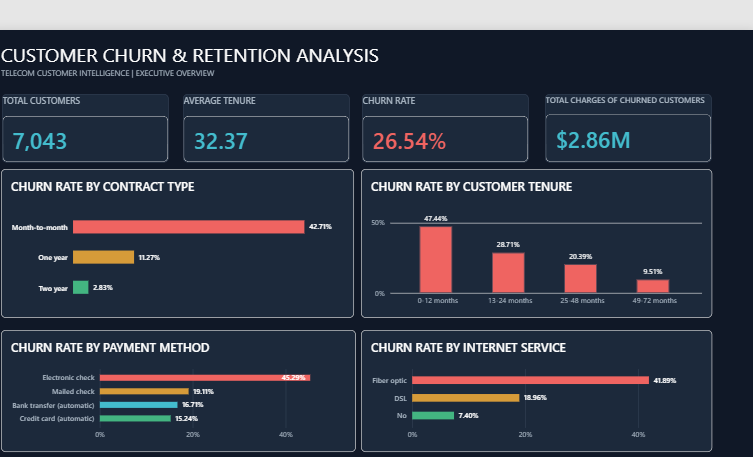

What the dashboard file says about the page in this screenshot:
{"tool":"powerbi","page":{"name":"Executive Overview","canvas":[1280,720],"ordinal":0},"visuals":[{"type":"textbox","title":"CUSTOMER CHURN & RETENTION ANALYSIS ","box":[13.4,18.5,1171,65],"z":0},{"type":"cardVisual","title":"TOTAL CUSTOMERS","fields":{"Data":["telco_churn_cleaned.Total customers"]},"box":[15.1,107.5,280,115],"z":1000},{"type":"cardVisual","title":"AVERAGE TENURE","fields":{"Data":["telco_churn_cleaned.Average Tenure"]},"box":[319.2,107.5,280,115],"z":2000},{"type":"cardVisual","title":"CHURN RATE","fields":{"Data":["telco_churn_cleaned.Churn rate"]},"box":[619.8,107.5,280,115],"z":3000},{"type":"cardVisual","title":"TOTAL CHARGES OF CHURNED CUSTOMERS","fields":{"Data":["telco_churn_cleaned.CHURNED CUSTOMER CHARGES"]},"box":[927.2,107.5,280,115],"z":4000},{"type":"clusteredBarChart","title":"CHURN RATE BY CONTRACT TYPE","fields":{"Category":["telco_churn_cleaned.Contract"],"Y":["telco_churn_cleaned.Churn rate"]},"box":[13.4,233.5,593,250.3],"z":5000},{"type":"clusteredColumnChart","title":"CHURN RATE BY CUSTOMER TENURE","fields":{"Category":["telco_churn_cleaned.Tenure Group"],"Y":["telco_churn_cleaned.Churn rate"]},"box":[618.2,233.5,589.6,250.3],"z":6000},{"type":"clusteredBarChart","title":"CHURN RATE BY PAYMENT METHOD","fields":{"Category":["telco_churn_cleaned.Payment Method"],"Y":["telco_churn_cleaned.Churn rate"]},"box":[13.4,503.9,596.3,204.9],"z":7000},{"type":"clusteredBarChart","title":"CHURN RATE BY INTERNET SERVICE","fields":{"Category":["telco_churn_cleaned.Internet Service"],"Y":["telco_churn_cleaned.Churn rate"]},"box":[618.2,503.9,589.6,204.9],"z":8000}]}

Visuals, with their boxes on the page's 1280x720 design canvas (x1, y1, x2, y2). These are canvas units, not pixel positions in the 753x457 screenshot, which may show the page scaled, cropped or inside an application window:
"CUSTOMER CHURN & RETENTION ANALYSIS " textbox: locate(13, 18, 1184, 84)
"TOTAL CUSTOMERS" cardVisual: locate(15, 108, 295, 222)
"AVERAGE TENURE" cardVisual: locate(319, 108, 599, 222)
"CHURN RATE" cardVisual: locate(620, 108, 900, 222)
"TOTAL CHARGES OF CHURNED CUSTOMERS" cardVisual: locate(927, 108, 1207, 222)
"CHURN RATE BY CONTRACT TYPE" clusteredBarChart: locate(13, 234, 606, 484)
"CHURN RATE BY CUSTOMER TENURE" clusteredColumnChart: locate(618, 234, 1208, 484)
"CHURN RATE BY PAYMENT METHOD" clusteredBarChart: locate(13, 504, 610, 709)
"CHURN RATE BY INTERNET SERVICE" clusteredBarChart: locate(618, 504, 1208, 709)
